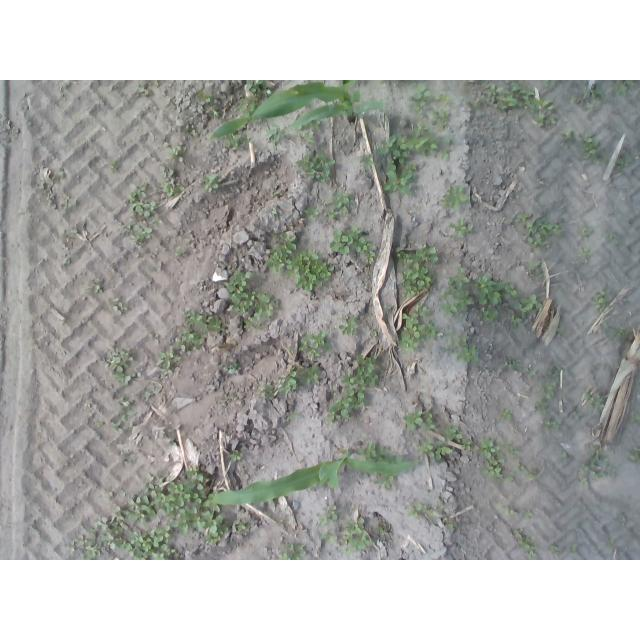Maize: (211, 446, 413, 506), (210, 81, 385, 140)
Weeds: (67, 472, 229, 561), (267, 233, 334, 292), (224, 271, 280, 330), (487, 82, 558, 126), (396, 243, 439, 298), (157, 329, 202, 375), (400, 302, 436, 354), (331, 225, 378, 263), (103, 341, 141, 387), (514, 213, 562, 248), (440, 266, 471, 318), (471, 272, 517, 305), (297, 147, 336, 182), (339, 517, 374, 556), (327, 389, 366, 424), (305, 192, 349, 221), (342, 353, 379, 387), (396, 122, 438, 151), (578, 445, 606, 488), (279, 367, 321, 394), (125, 183, 156, 217), (383, 162, 414, 195), (111, 396, 137, 432), (158, 166, 185, 197), (299, 331, 330, 358), (440, 182, 468, 210), (358, 443, 390, 462), (407, 504, 439, 521), (514, 294, 542, 313), (185, 309, 208, 332), (476, 438, 501, 459), (278, 542, 307, 560), (583, 133, 601, 160), (483, 458, 506, 479), (402, 407, 423, 430), (317, 505, 338, 527), (455, 343, 479, 362), (582, 88, 603, 109), (339, 316, 360, 336), (591, 290, 609, 313), (450, 218, 470, 238), (376, 135, 397, 154), (525, 260, 544, 280), (584, 390, 603, 410), (201, 173, 219, 192), (443, 426, 462, 444), (435, 441, 454, 459), (256, 381, 275, 399), (374, 474, 394, 491), (477, 307, 499, 322), (134, 225, 152, 243), (208, 315, 225, 334), (540, 381, 557, 399), (236, 98, 255, 114), (418, 439, 434, 458), (267, 122, 282, 142), (614, 81, 634, 96), (432, 110, 449, 127), (111, 298, 128, 315), (413, 84, 432, 99), (168, 146, 184, 163), (246, 80, 266, 93), (544, 418, 564, 431), (60, 192, 76, 208), (518, 536, 537, 549), (359, 154, 375, 169), (443, 338, 457, 355), (227, 134, 241, 150), (319, 531, 335, 545), (425, 412, 436, 432), (145, 385, 160, 399), (48, 189, 58, 210), (501, 443, 520, 454), (560, 130, 573, 146), (412, 102, 429, 114), (86, 282, 103, 294), (64, 224, 78, 238), (508, 315, 523, 328), (232, 520, 246, 533), (225, 364, 240, 376), (394, 150, 407, 163), (505, 359, 520, 370), (197, 91, 211, 102), (307, 121, 321, 132), (515, 463, 529, 474), (230, 451, 243, 462), (447, 519, 458, 532), (603, 233, 617, 243), (535, 401, 549, 411), (500, 409, 512, 420), (578, 246, 591, 256), (149, 334, 160, 345), (459, 331, 470, 342), (438, 93, 450, 103), (616, 327, 626, 339), (461, 439, 471, 451), (286, 413, 299, 422), (305, 131, 316, 141), (441, 149, 452, 159), (522, 509, 533, 519), (581, 227, 593, 236), (570, 412, 582, 421), (607, 466, 616, 478), (241, 134, 254, 142), (616, 158, 629, 166), (111, 163, 121, 173), (139, 86, 149, 96), (549, 543, 559, 553), (122, 225, 132, 235), (528, 470, 539, 479), (525, 551, 537, 559), (631, 412, 640, 422), (377, 526, 388, 534), (443, 135, 451, 145), (472, 98, 480, 108), (503, 506, 513, 514), (185, 125, 195, 133), (177, 246, 187, 254), (530, 367, 537, 377), (437, 498, 444, 508), (593, 156, 601, 164), (630, 454, 639, 461), (65, 258, 72, 267), (547, 371, 557, 377), (97, 420, 104, 428), (570, 544, 577, 552), (214, 110, 221, 117), (557, 327, 564, 334), (597, 365, 604, 372), (370, 331, 378, 337), (569, 96, 575, 103), (561, 451, 567, 458), (514, 531, 520, 538), (620, 511, 626, 517), (607, 542, 614, 547), (272, 209, 277, 215), (85, 403, 91, 408), (544, 80, 549, 85), (509, 476, 515, 480)
